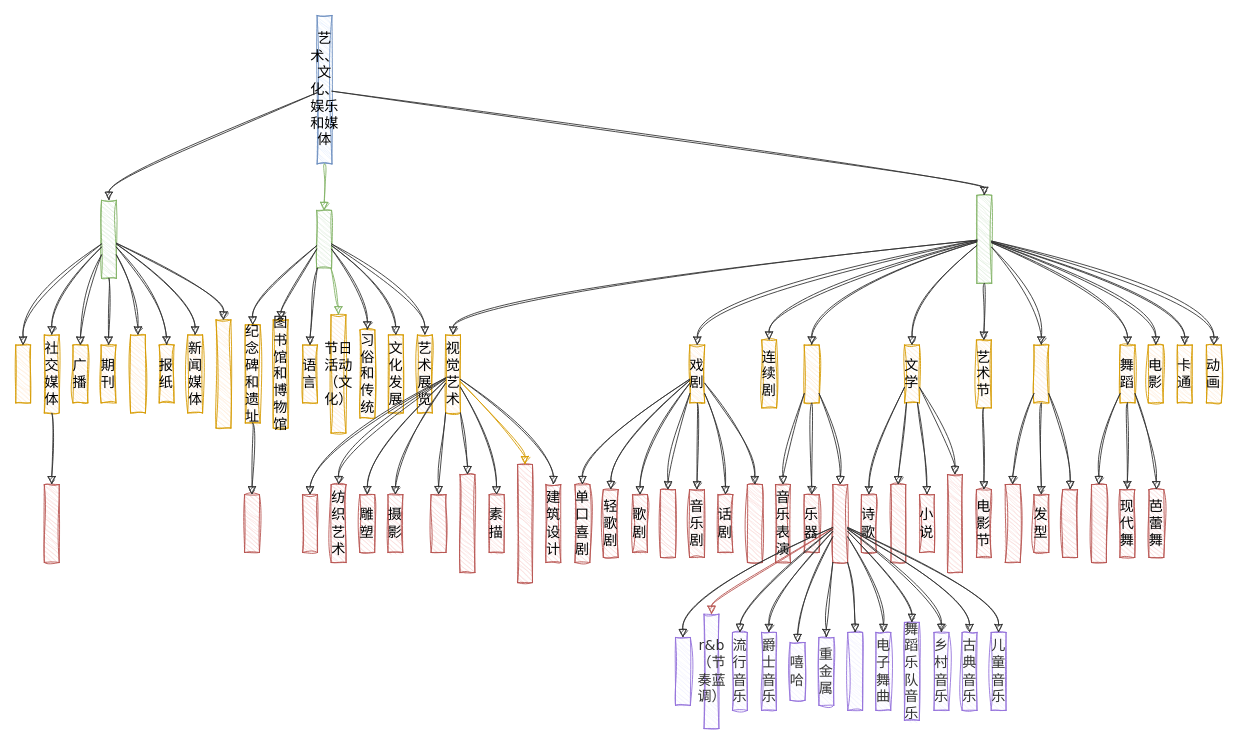
This 1236x744 diagram has some shape labels left out. The box of each missing label's shape, as (x1, y1, x2, y2) in pixels:
传统舞蹈: (1091, 484, 1106, 563)
化妆品: (1062, 489, 1078, 557)
大众传媒: (101, 199, 116, 278)
戏剧（文学）: (947, 474, 962, 573)
摇滚乐: (675, 637, 690, 705)
文化: (316, 210, 332, 268)
时尚: (1033, 344, 1049, 403)
木工: (302, 494, 318, 552)
歌舞剧: (660, 489, 675, 557)
歌舞表演: (747, 484, 762, 563)
民俗音乐: (847, 632, 863, 710)
珠宝首饰: (1004, 484, 1020, 563)
电视: (15, 344, 31, 403)
纪实文学: (890, 484, 906, 563)
绘画: (430, 494, 446, 552)
网络名人: (43, 484, 59, 563)
网络媒体: (130, 334, 145, 413)
翻修: (244, 494, 259, 552)
艺术与娱乐: (976, 194, 992, 283)
设计（视觉艺术）: (517, 464, 532, 583)
误导和不实消息: (215, 319, 231, 428)
锻造（艺术）: (459, 474, 475, 573)
音乐: (803, 344, 819, 403)
音乐类型: (832, 484, 848, 563)
